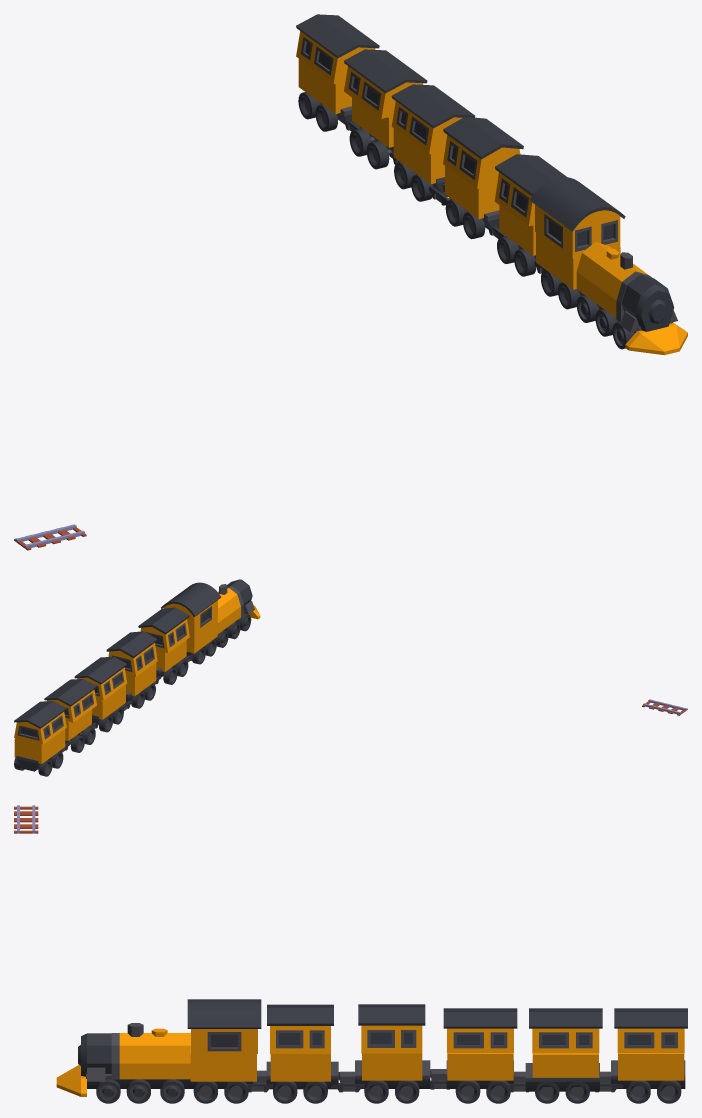
File: TrainTrack.fbx
3 views of the same model, one above another, from view 1: azimuth 30°, elevation 25°; view 2: azimuth 150°, elevation 25°; view 3: azimuth 270°, elevation 25° (orthographic). The views are drawn at different scales.
Parts seen in each view (by area): view 1: mergedBlocks; view 2: mergedBlocks; view 3: mergedBlocks.
Part boxes in pixels (x1,y1,x2,y2): mergedBlocks: (14,14,687,550); mergedBlocks: (14,579,687,776); mergedBlocks: (14,805,687,1103).
Size of the model in its own units: 118 by 17.5 by 111.
